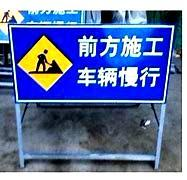sign: (9, 24, 167, 102)
